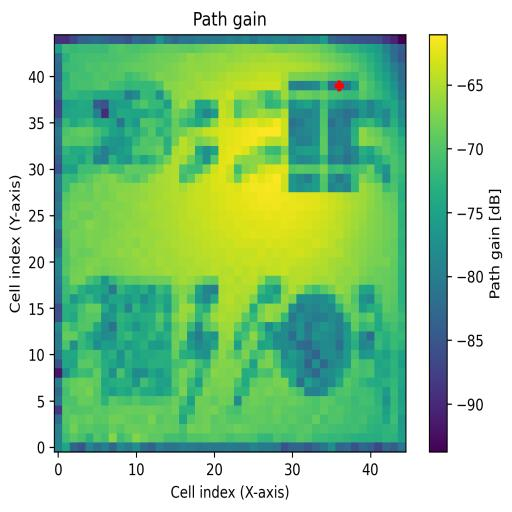Concrete: (288, 72, 358, 192)
Glass: (93, 75, 171, 182)
Metal: (282, 280, 350, 398)
Wood: (102, 276, 172, 397)
